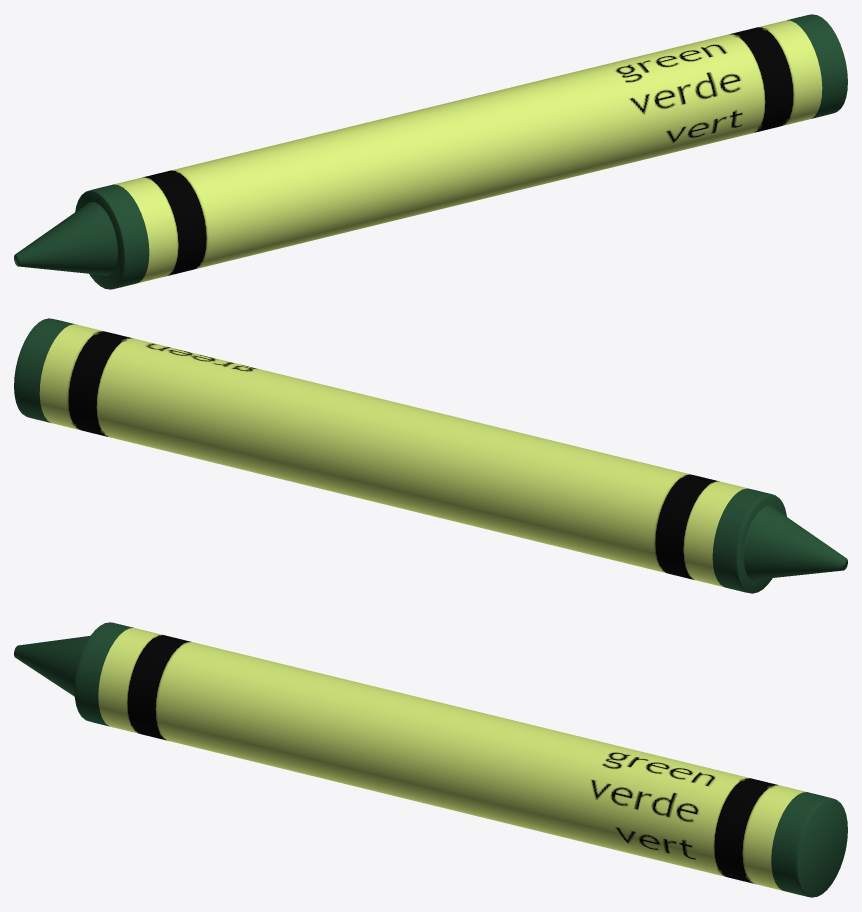
File: pencil.glb
3 renders of one model, top to bottom at view 1: azimuth 30°, elevation 25°; view 2: azimuth 150°, elevation 25°; view 3: azimuth 330°, elevation 25°, orthographic.
Visible parts, largest first — view 1: crayon; view 2: crayon; view 3: crayon.
Part boxes in pixels (box(x1,y1,x2,y2)): crayon: box(14, 14, 847, 289); crayon: box(14, 318, 847, 593); crayon: box(14, 622, 847, 897).
Bounding box in the file's own units: 2.01 × 0.2199 × 0.2199.
2 materials, 1 textured.
